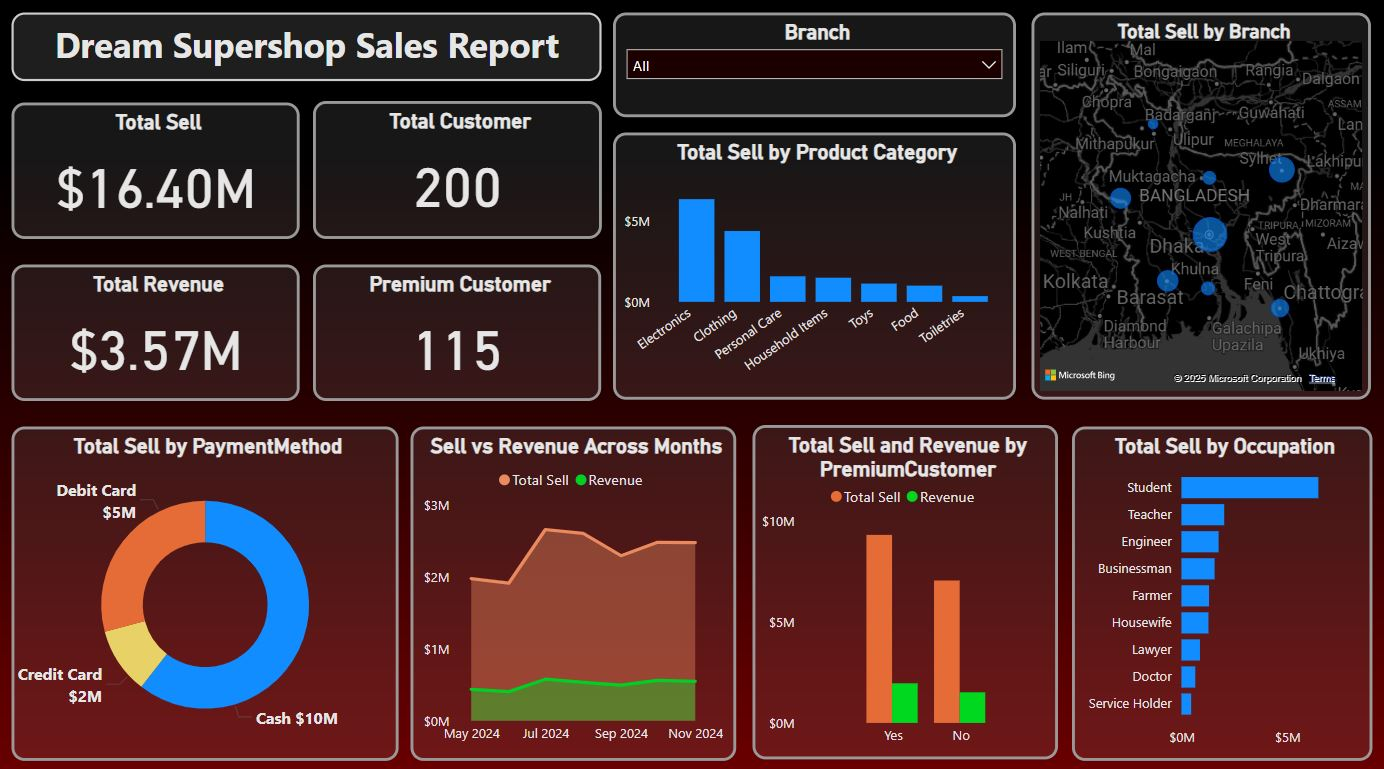

The dashboard page shown, as its layout file describes it:
{"tool":"powerbi","page":{"name":"Summary Report","canvas":[1280,720],"ordinal":0},"visuals":[{"type":"textbox","box":[12.6,15.8,545,63],"z":0},{"type":"areaChart","title":"Sell vs Revenue Across Months","fields":{"Y":["_Measure.Total Sell","_Measure.Revenue"],"Category":["Date_lookup.Start of Month"]},"box":[381.2,396.9,300.8,308.7],"z":1000},{"type":"card","title":"Total Sell","fields":{"Values":["_Measure.Total Sell"]},"box":[12.6,97.7,266.2,126],"z":2000},{"type":"card","title":"Total Revenue","fields":{"Values":["_Measure.Revenue"]},"box":[12.6,247.3,266.2,126],"z":3000},{"type":"map","fields":{"Category":["Sales Data.Branch"],"Size":["_Measure.Total Sell"]},"box":[954.5,15.8,313.4,357.5],"z":4000},{"type":"slicer","title":"Branch","fields":{"Values":["Sales Data.Branch"]},"box":[568.3,15.3,372.3,96.5],"z":5000},{"type":"donutChart","fields":{"Series":["Sales Data.PaymentMethod"],"Y":["_Measure.Total Sell"]},"box":[12.6,396.9,357.5,308.7],"z":6000},{"type":"card","title":"Total Customer","fields":{"Values":["CountNonNull(Customer Lookup.CustomerID)"]},"box":[291.1,96.5,266.6,127.1],"z":7000},{"type":"card","title":"Premium Customer","fields":{"Values":["_Measure.Premium Customer Count"]},"box":[291.4,247.3,266.2,126],"z":8000},{"type":"clusteredBarChart","fields":{"Category":["Customer Lookup.Occupation"],"Y":["_Measure.Total Sell"]},"box":[990.7,396.9,277.2,308.7],"z":9000},{"type":"clusteredColumnChart","fields":{"Category":["Customer Lookup.PremiumCustomer"],"Y":["_Measure.Total Sell","_Measure.Revenue"]},"box":[696.7,396.7,281.7,308.3],"z":10000},{"type":"clusteredColumnChart","title":"Total Sell by Product Category","fields":{"Y":["_Measure.Total Sell"],"Category":["Product Category Lookup.CategoryName"]},"box":[568.3,126.7,371.7,246.7],"z":11000}]}

Visuals, with their boxes in screenshot pixels (x1, y1, x2, y2), scaled from the page's 1280x720 canvas onto the 1384x769 screenshot:
textbox: l=14, t=17, r=603, b=84
"Sell vs Revenue Across Months" areaChart: l=412, t=424, r=737, b=754
"Total Sell" card: l=14, t=104, r=301, b=239
"Total Revenue" card: l=14, t=264, r=301, b=399
map - Sales Data.Branch x _Measure.Total Sell: l=1032, t=17, r=1371, b=399
"Branch" slicer: l=614, t=16, r=1017, b=119
donutChart - Sales Data.PaymentMethod x _Measure.Total Sell: l=14, t=424, r=400, b=754
"Total Customer" card: l=315, t=103, r=603, b=239
"Premium Customer" card: l=315, t=264, r=603, b=399
clusteredBarChart - Customer Lookup.Occupation x _Measure.Total Sell: l=1071, t=424, r=1371, b=754
clusteredColumnChart - Customer Lookup.PremiumCustomer x _Measure.Total Sell: l=753, t=424, r=1058, b=753
"Total Sell by Product Category" clusteredColumnChart: l=614, t=135, r=1016, b=399
